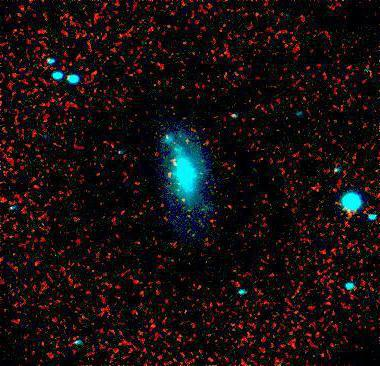star: (172, 182, 202, 212)
